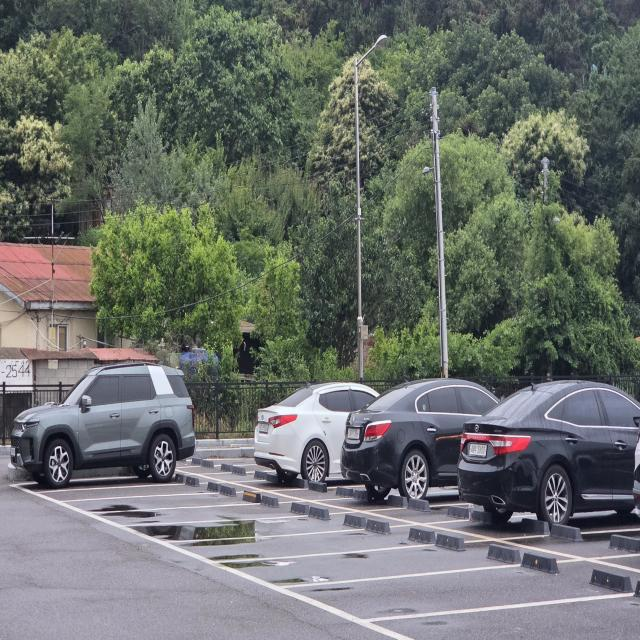car: (6, 353, 220, 504), (458, 372, 640, 544), (338, 356, 504, 523), (243, 366, 395, 496)
